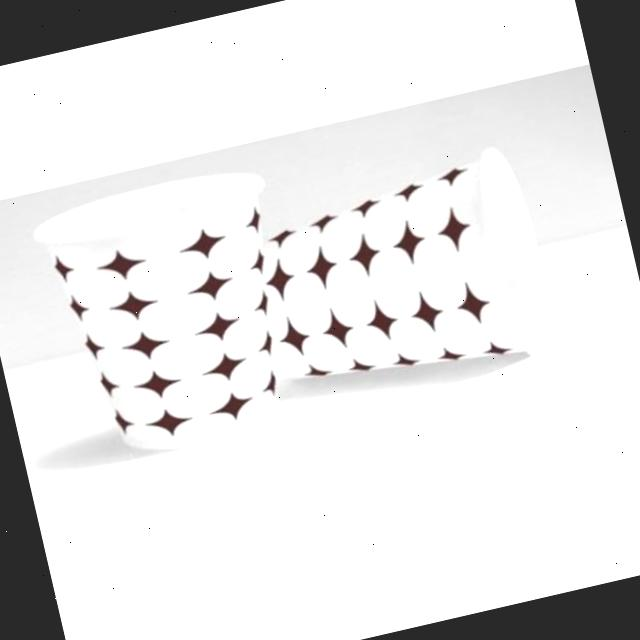trash: (235, 131, 640, 404), (33, 140, 325, 514)
